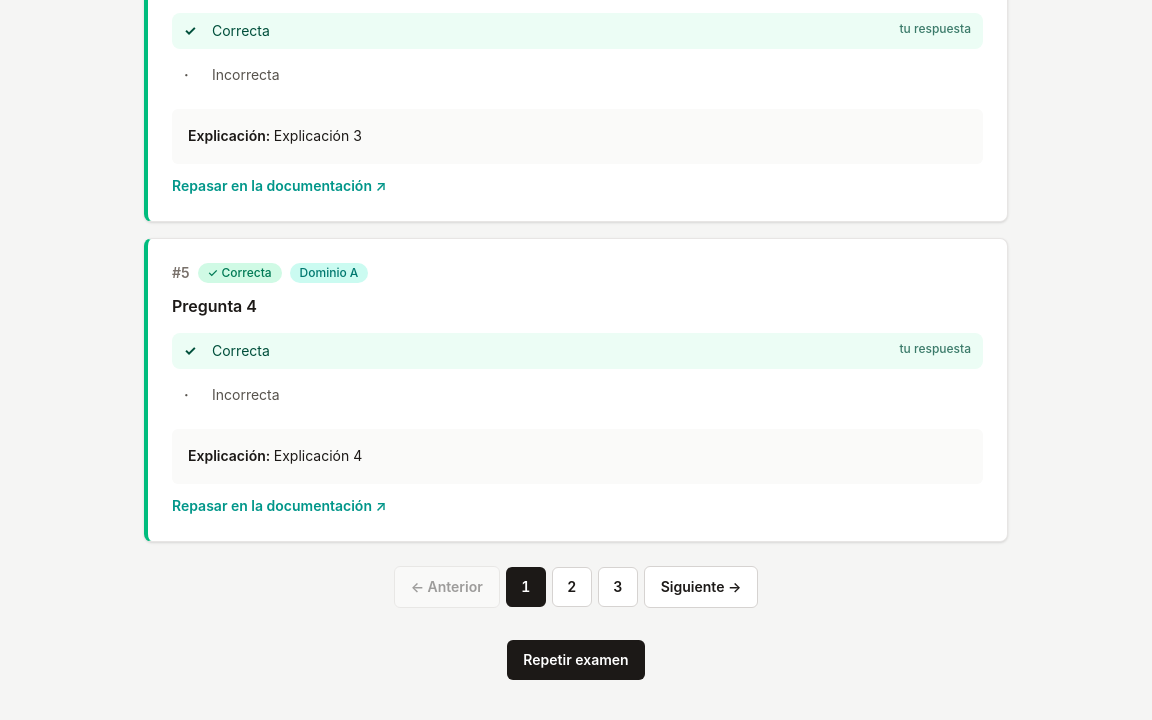
filtra incorrectas (incluye sin responder) y vuelve a la página 1
(page scrolled)
Click the button named "Página 2".
click(572, 587)  # box 552,567 -> 592,607
(page scrolled)
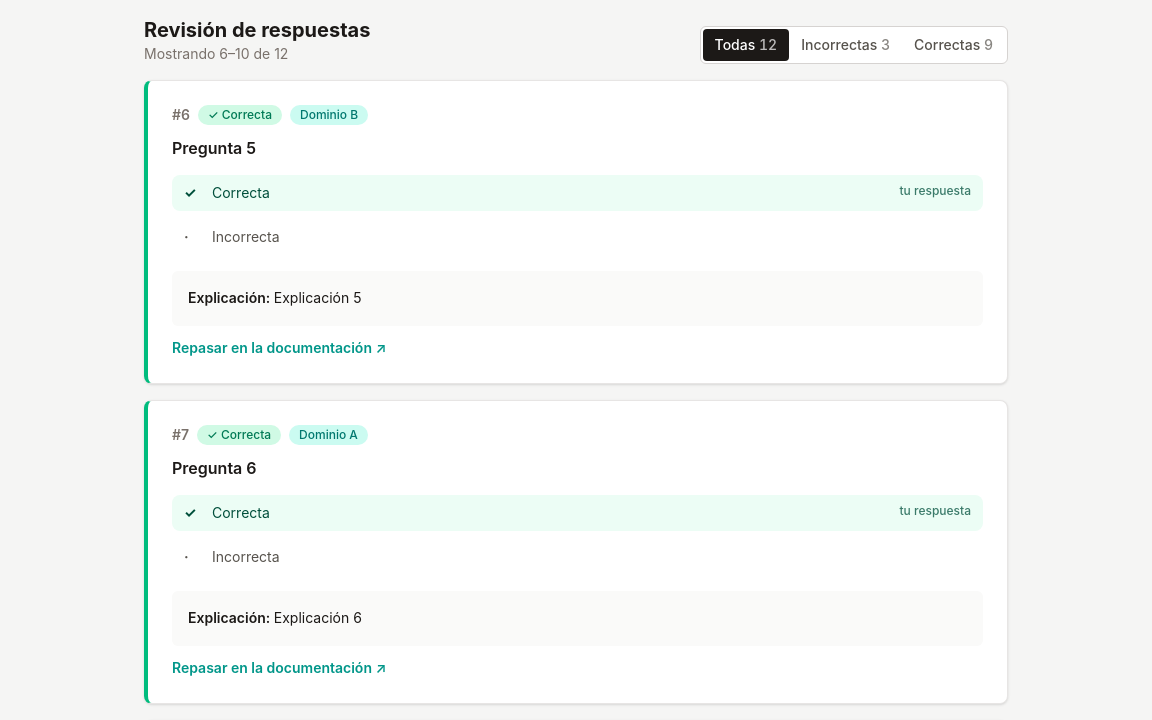
Click the tab "Incorrectas 3".
click(846, 45)  # box 789,29 -> 902,61
(page scrolled)
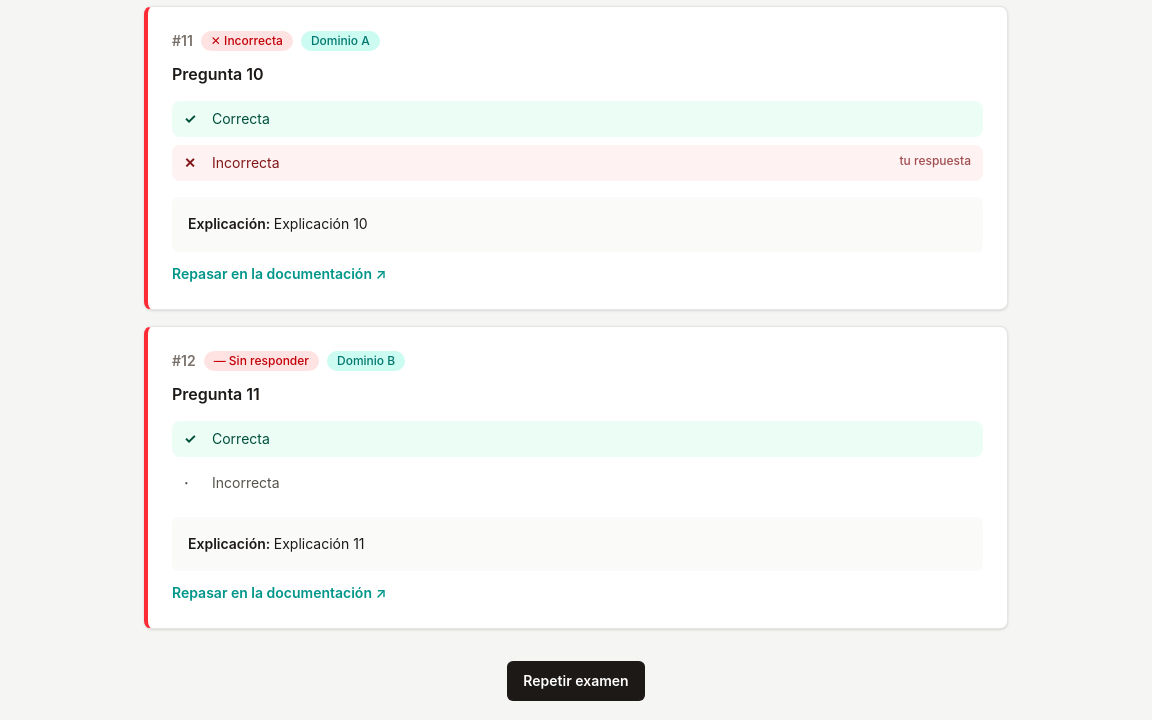
Expected: the text "— Sin responder" is shown, 204,350 -> 319,370
